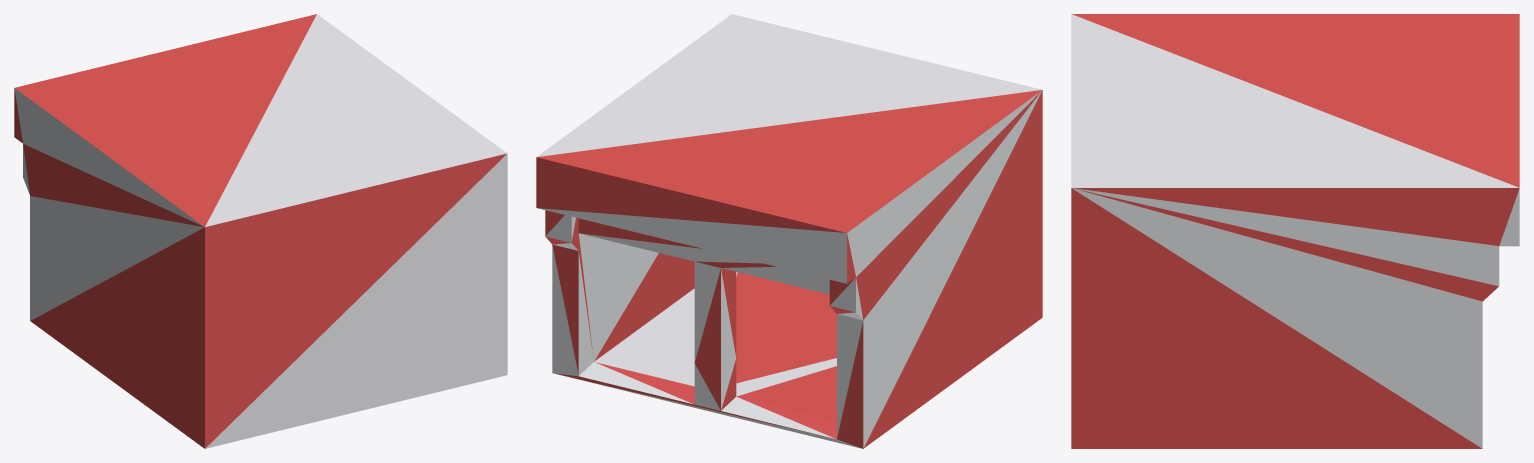
The model's file is pitsGarage.glb.
3 renders of one model, left to right at view 1: azimuth 30°, elevation 25°; view 2: azimuth 150°, elevation 25°; view 3: azimuth 270°, elevation 25°, orthographic. The views are drawn at different scales.
Visible parts, largest first — view 1: pitsGarage; view 2: pitsGarage; view 3: pitsGarage.
Boxes of the visible parts, box(x1,y1,x2,y2) form: pitsGarage: box(14, 14, 507, 448); pitsGarage: box(536, 14, 1042, 448); pitsGarage: box(1071, 14, 1519, 448).
Bounding box in the file's own units: 10 × 7 × 10.9.
